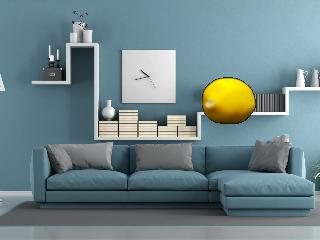lemon: (204, 79, 255, 124)
